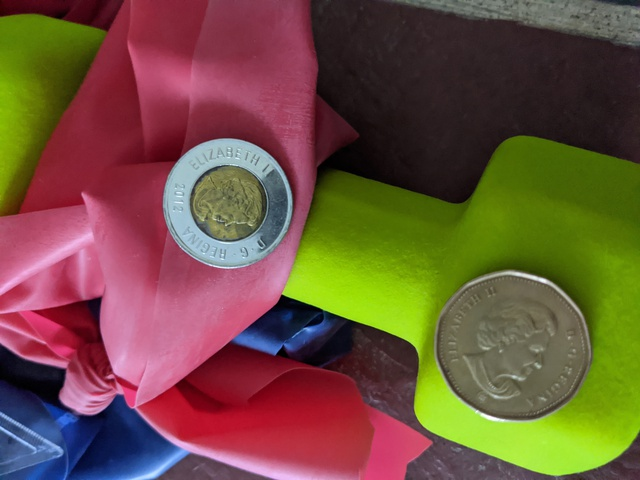loonie: (434, 260, 594, 422)
twonie: (148, 133, 294, 268)
